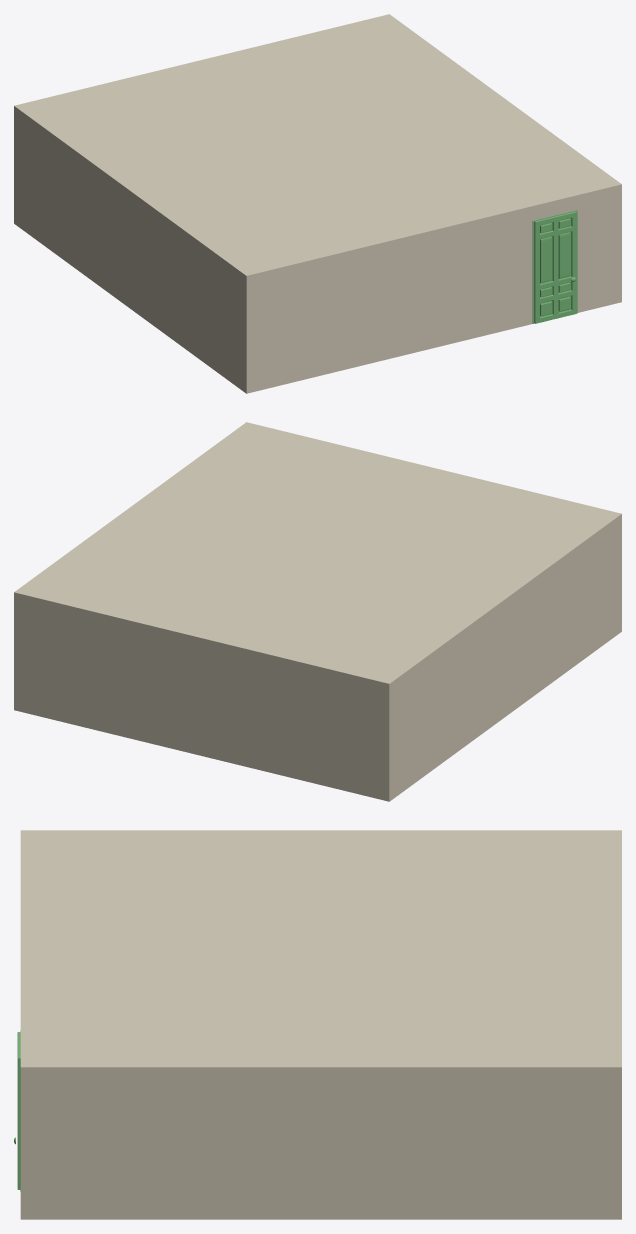
The model's file is Room 3.glb.
The picture shows the model from 3 angles, top to bottom: view 1: azimuth 30°, elevation 25°; view 2: azimuth 150°, elevation 25°; view 3: azimuth 270°, elevation 25°; orthographic projection. The views are drawn at different scales.
Parts seen in each view (by area): view 1: Mesh_Mesh_head_geo.001_lambert2SG.001; view 2: Mesh_Mesh_head_geo.001_lambert2SG.001; view 3: Mesh_Mesh_head_geo.001_lambert2SG.001.
Part boxes in pixels (box(x1,y1,x2,y2)): Mesh_Mesh_head_geo.001_lambert2SG.001: box(14, 14, 621, 393); Mesh_Mesh_head_geo.001_lambert2SG.001: box(14, 422, 621, 801); Mesh_Mesh_head_geo.001_lambert2SG.001: box(14, 830, 621, 1219).
Size of the model in its own units: 40 by 12 by 43.39.
